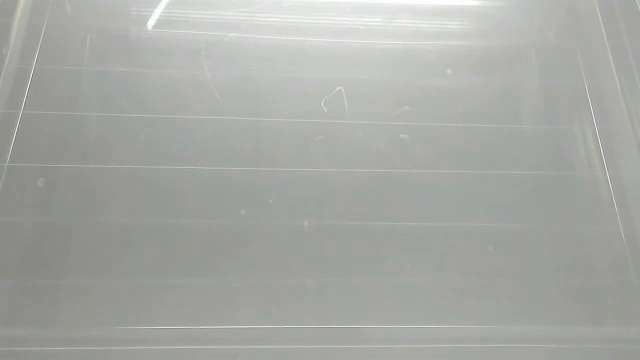alpha: (145, 1, 171, 33)
